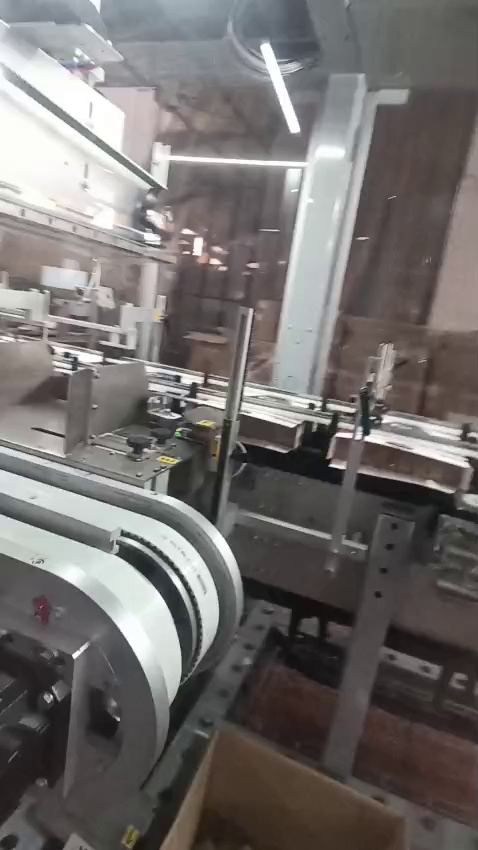savon: (159, 728, 410, 850), (432, 332, 472, 416), (416, 458, 440, 478), (120, 828, 141, 850), (206, 436, 222, 464), (195, 421, 225, 432), (160, 454, 176, 465)
